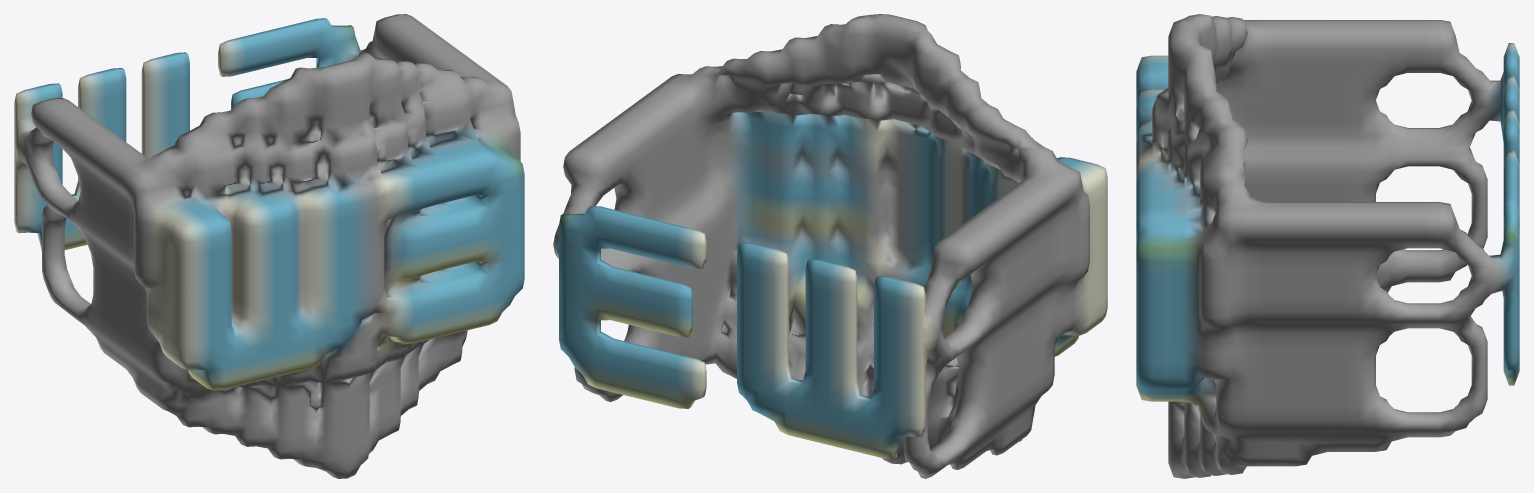
3 renders of one model, left to right at view 1: azimuth 30°, elevation 25°; view 2: azimuth 150°, elevation 25°; view 3: azimuth 270°, elevation 25°, orthographic. The views are drawn at different scales.
Bounding box in the file's own units: 1.5 × 1.55 × 1.2.
